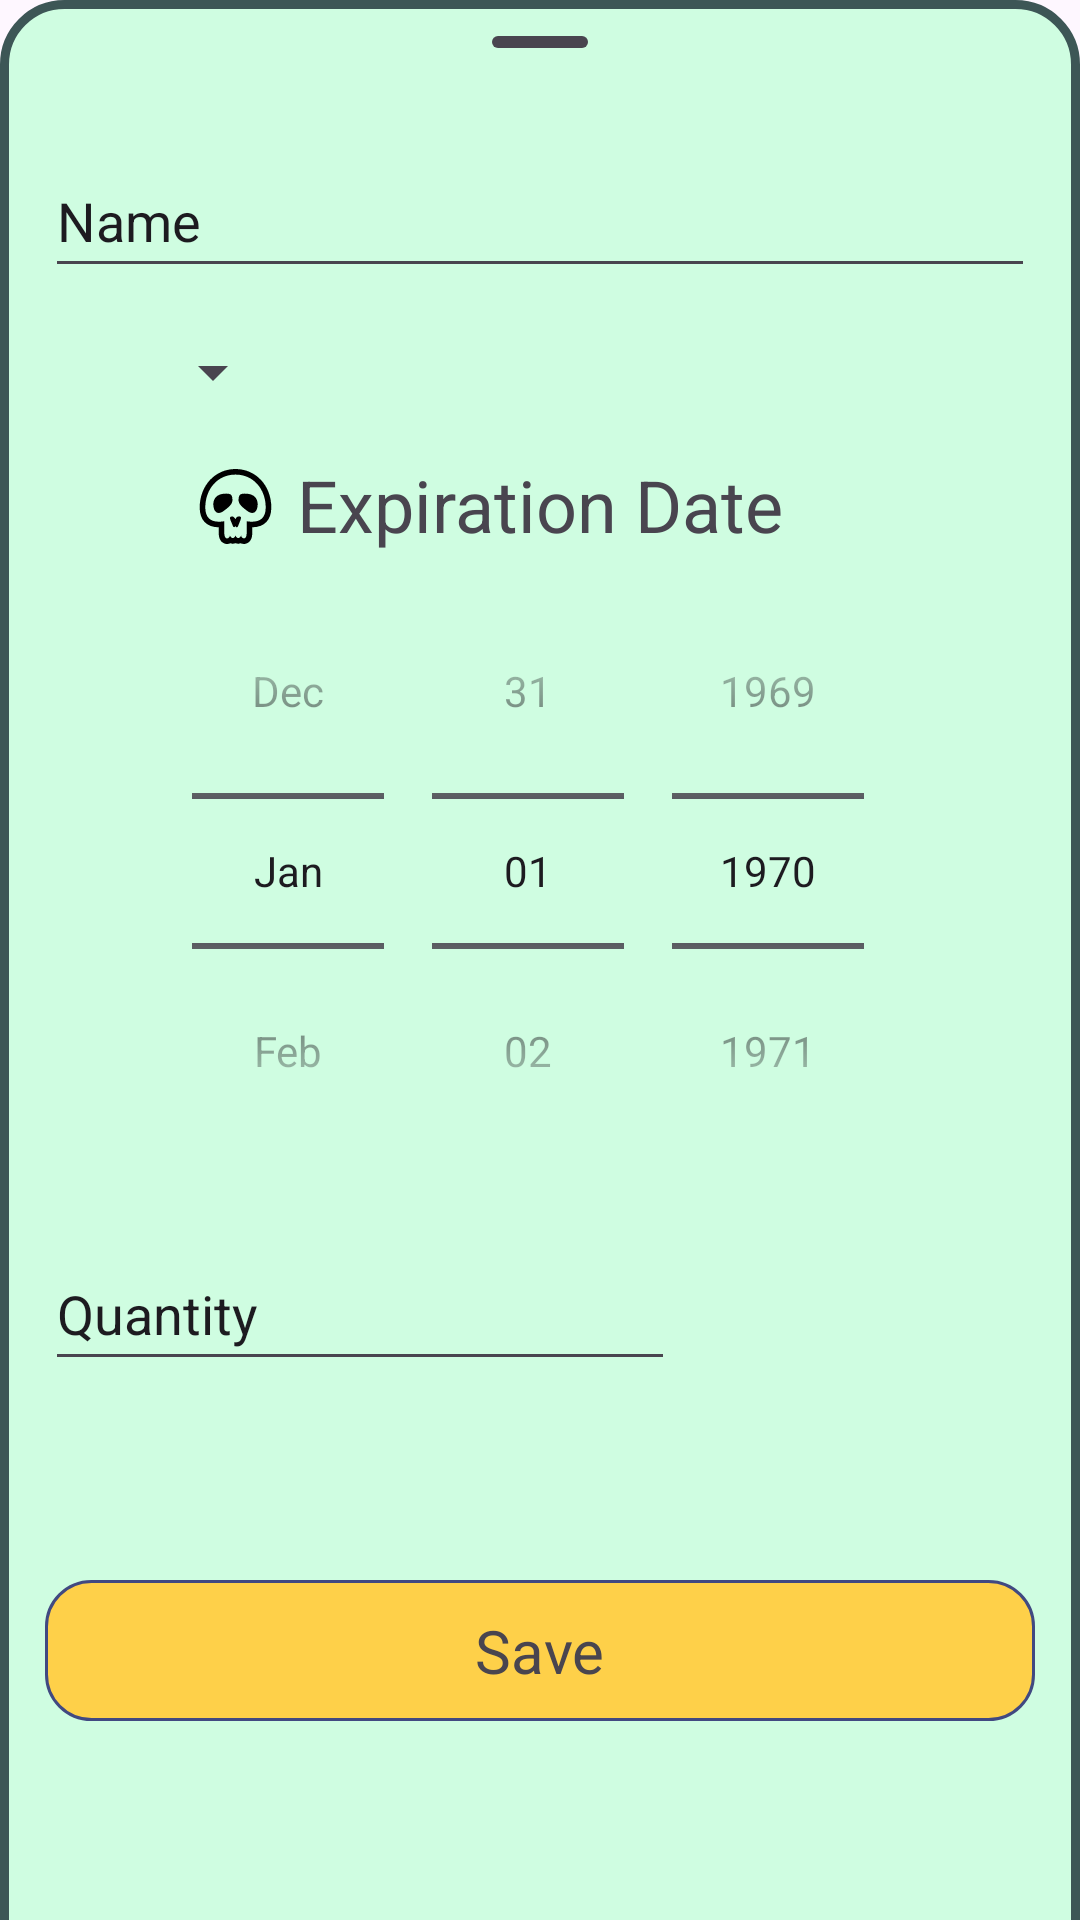

Icon click points for this 1080*1920 phone screenshot, format (x=x, y=y):
skull: (x=235, y=506)
